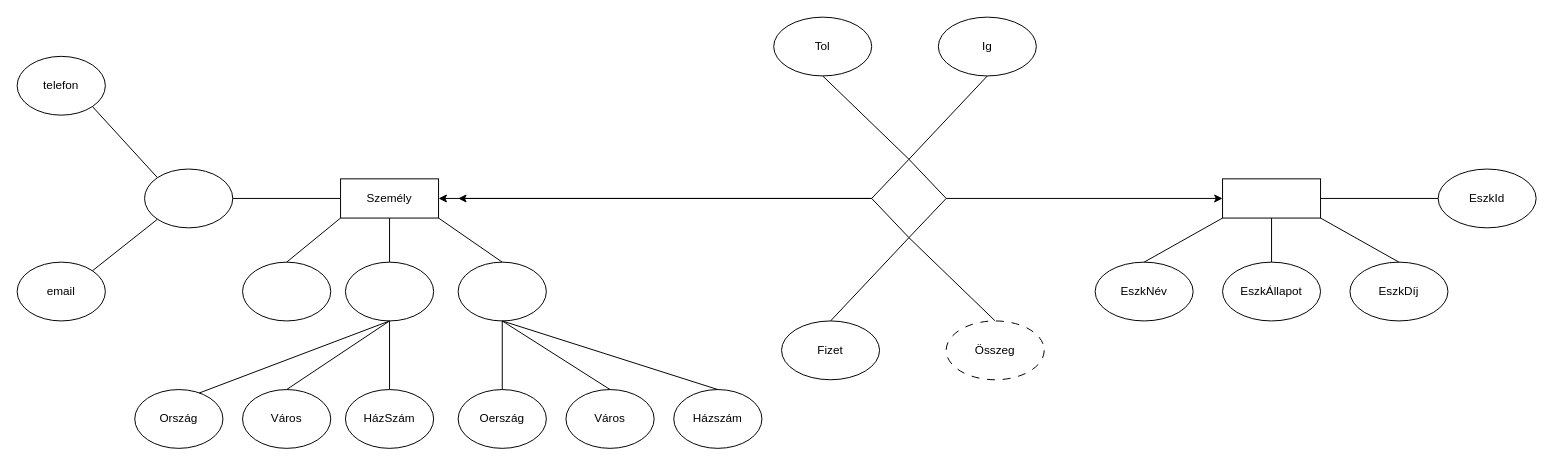
Some shapes in this 1553 by 466 pixel diagram are drawn without their labels. The box of each missing label's shape, as (x1, y1, x2, y2) in pixels:
elérhetőség: (144, 168, 233, 228)
Eszköz: (1222, 178, 1321, 218)
Kölcsönzés: (871, 158, 946, 238)
lakhely: (344, 261, 434, 321)
név: (242, 261, 331, 321)
szállításicím: (457, 261, 546, 321)
